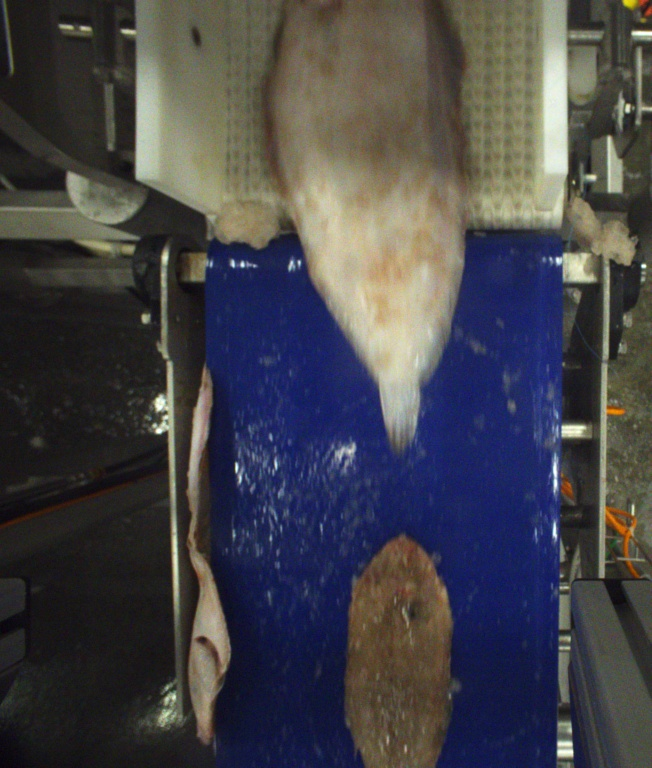SOL: (257, 0, 467, 448)
